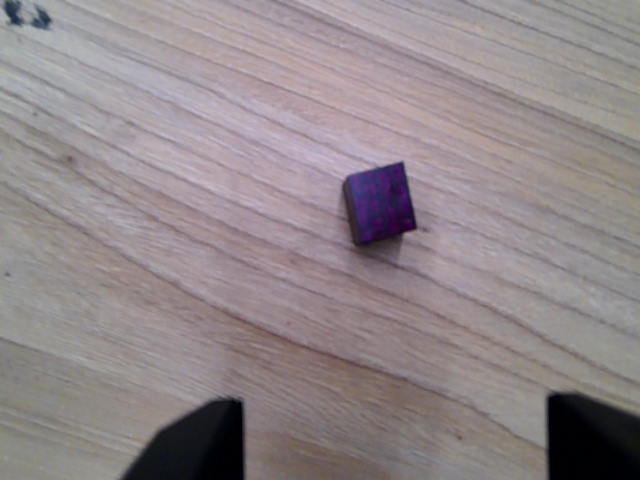brick: (332, 159, 420, 248)
